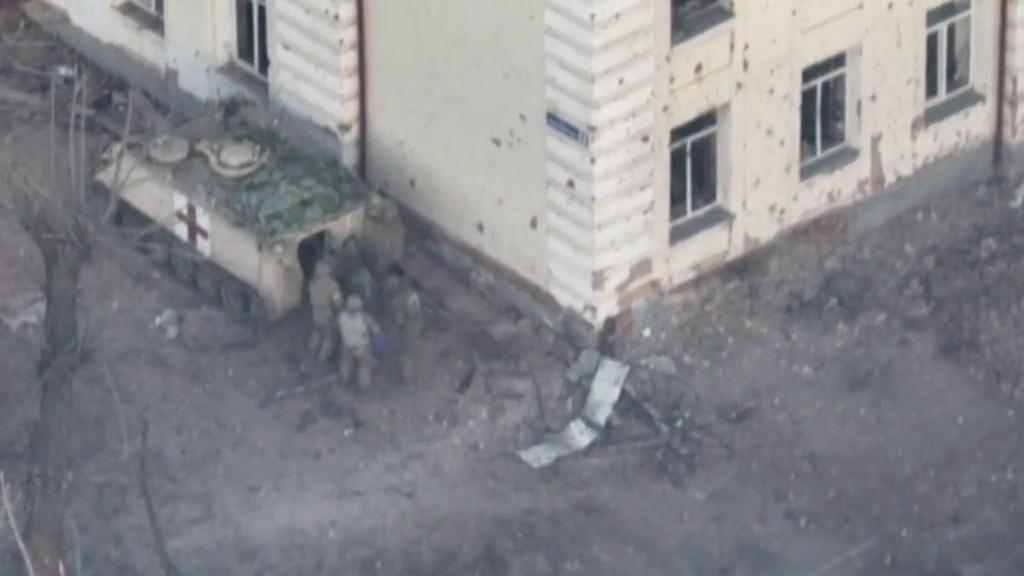person: (302, 261, 339, 376), (384, 278, 424, 382), (338, 294, 380, 391)
vehicle: (102, 94, 407, 322)
